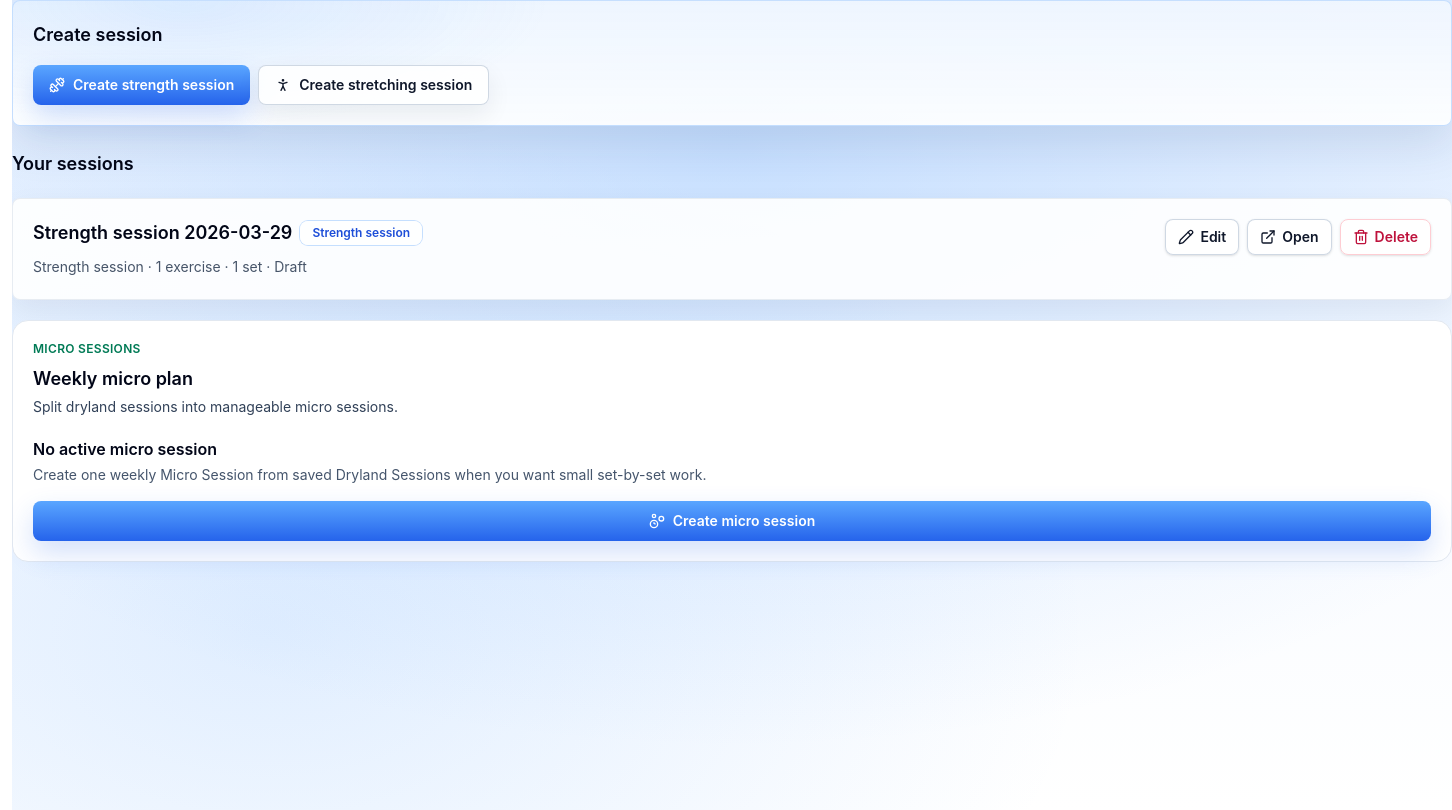
DrylandBuilderHub › keeps create session failures grouped under the create actions
Click the button with test id "dryland-browse-create-strength": (142, 85) [33,65,250,105]
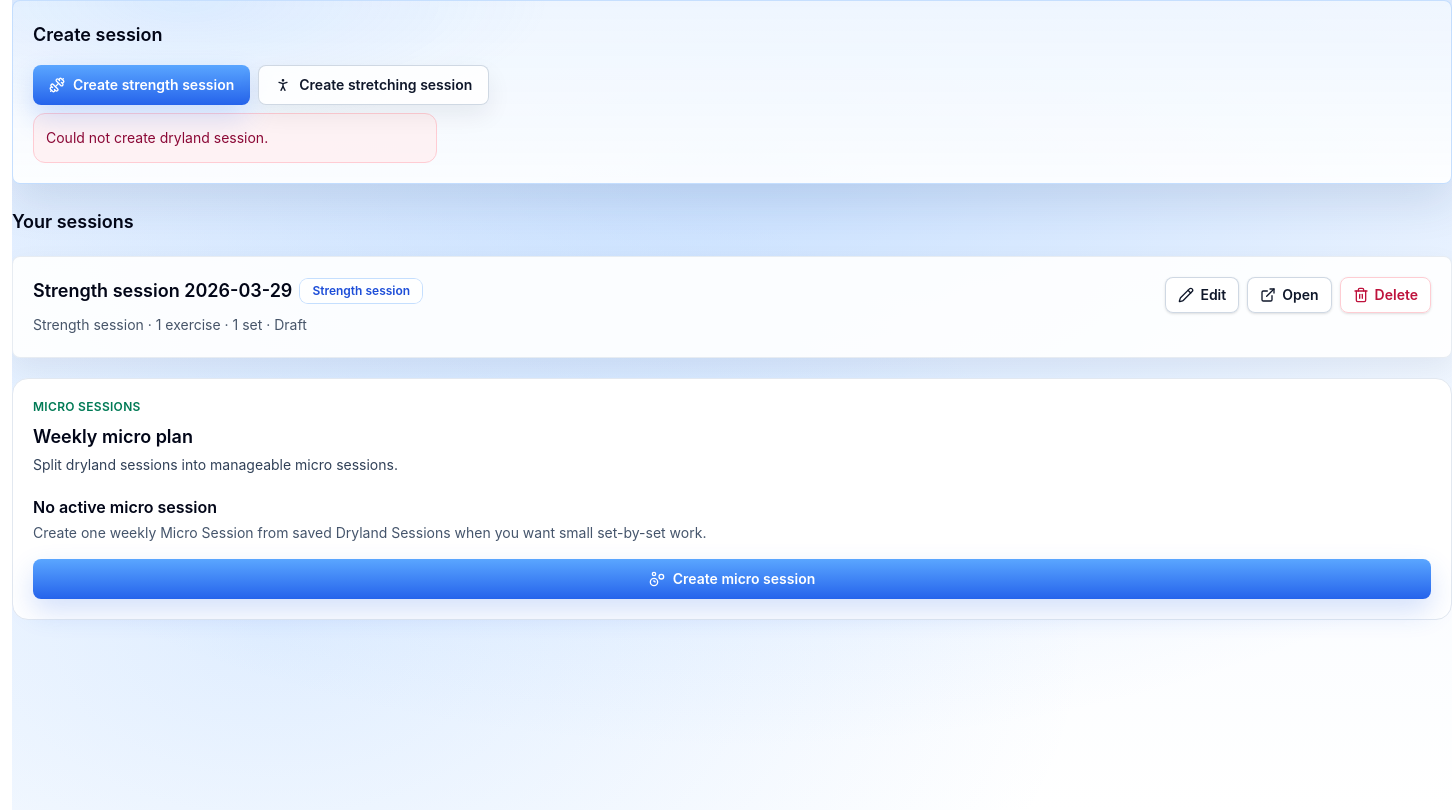
Expected: the message with test id "dryland-builder-create-error" reads "Could not create dryland session.", [46,129,268,146]
